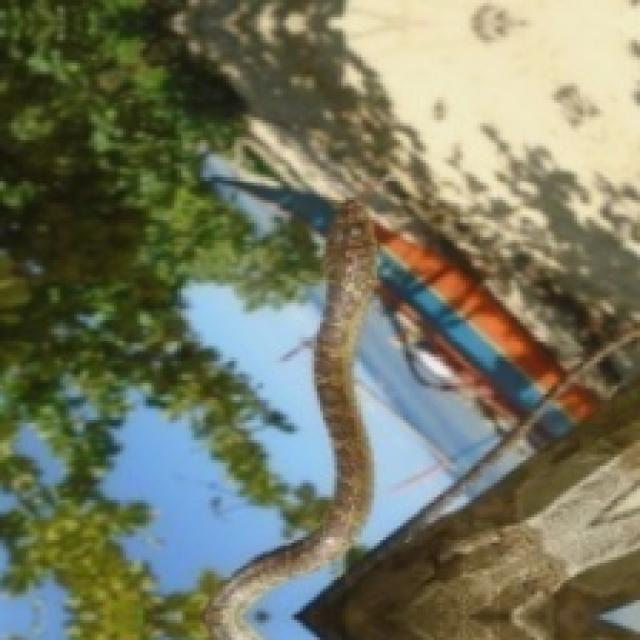mullers wolf snake: (206, 200, 374, 637)
